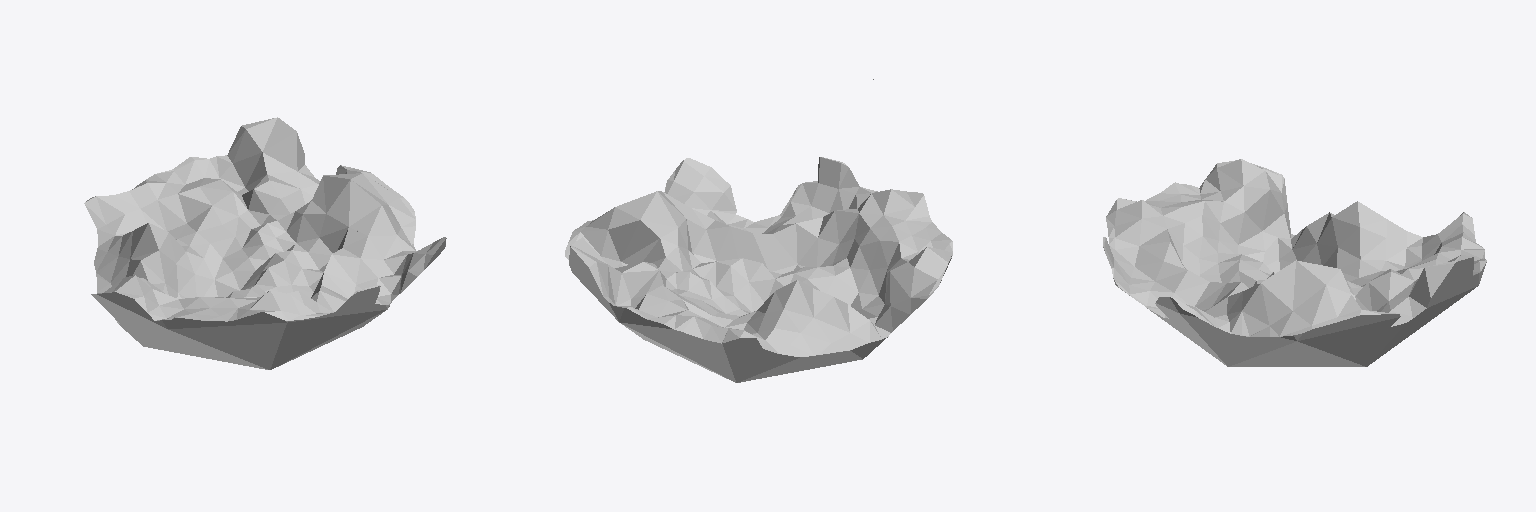
File: SphereMonstr2.obj
3 renders of one model, left to right at view 1: azimuth 30°, elevation 25°; view 2: azimuth 150°, elevation 25°; view 3: azimuth 270°, elevation 25°, orthographic.
Visible parts, largest first — view 1: Icosphere; view 2: Icosphere; view 3: Icosphere.
Boxes of the visible parts, <box> form: Icosphere: <box>84,117,446,369</box>; Icosphere: <box>565,79,952,382</box>; Icosphere: <box>1103,159,1486,366</box>.
Bounding box in the file's own units: 1.7 × 1 × 1.84.